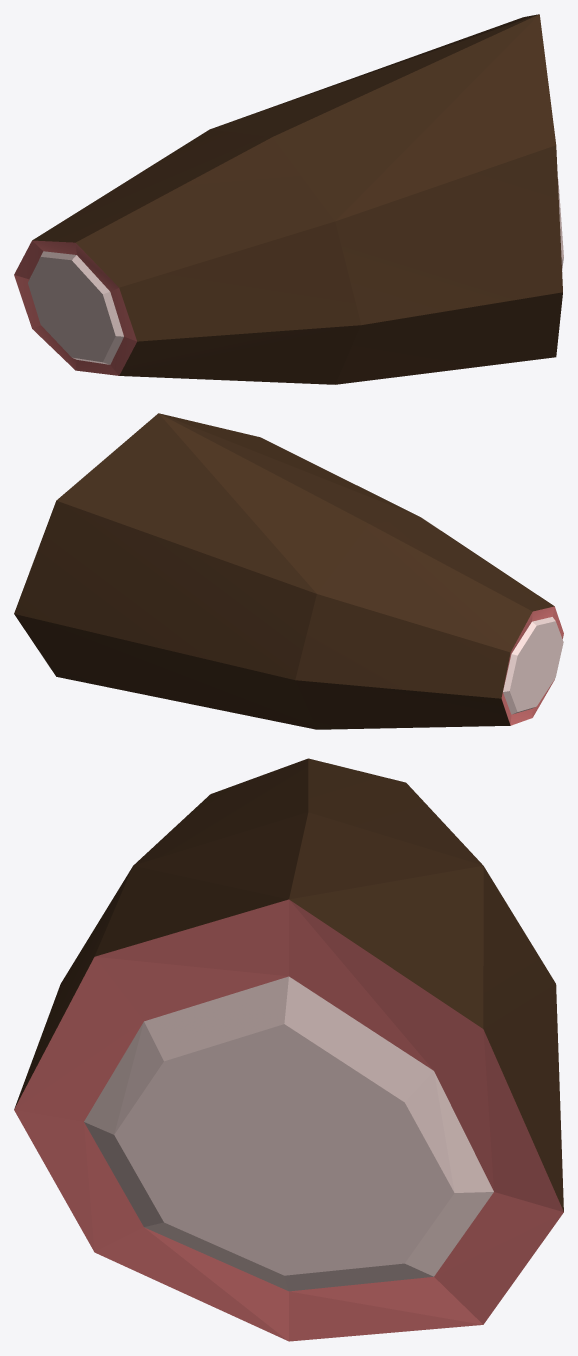
File: Tribal_Plains_Meat_Food_Ham_Leg_01.fbx
The picture shows the model from 3 angles, top to bottom: view 1: azimuth 30°, elevation 25°; view 2: azimuth 150°, elevation 25°; view 3: azimuth 270°, elevation 25°; orthographic projection. The views are drawn at different scales.
Parts seen in each view (by area): view 1: Tribal_Plains_Meat_Food_Ham_Leg_01; view 2: Tribal_Plains_Meat_Food_Ham_Leg_01; view 3: Tribal_Plains_Meat_Food_Ham_Leg_01.
Part boxes in pixels (<box>): Tribal_Plains_Meat_Food_Ham_Leg_01: <box>14,14,563,384</box>; Tribal_Plains_Meat_Food_Ham_Leg_01: <box>14,413,563,729</box>; Tribal_Plains_Meat_Food_Ham_Leg_01: <box>14,758,563,1341</box>.
Bounding box in the file's own units: 1.23 × 0.684 × 0.7711.
